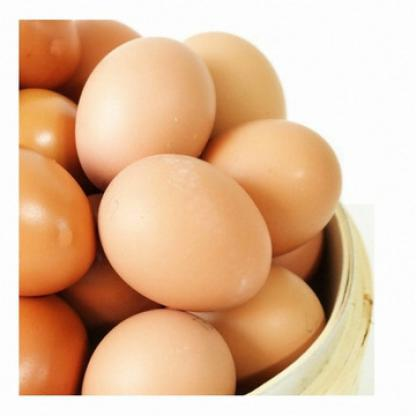egg: (95, 143, 278, 312), (77, 34, 226, 188), (141, 0, 307, 137), (195, 125, 360, 244), (70, 305, 242, 415), (0, 129, 118, 289), (0, 276, 100, 389), (0, 13, 100, 92)
